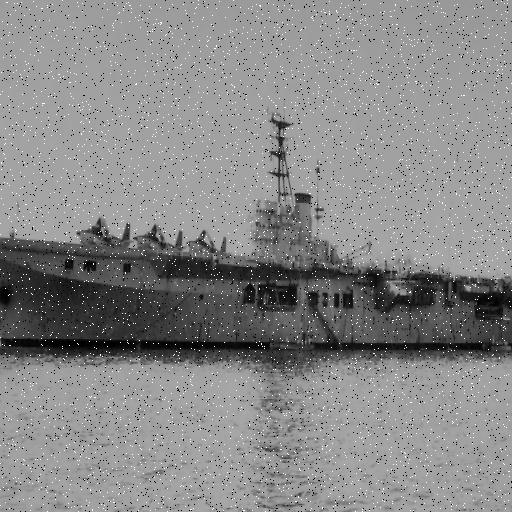Portanaves: (1, 110, 512, 360)
